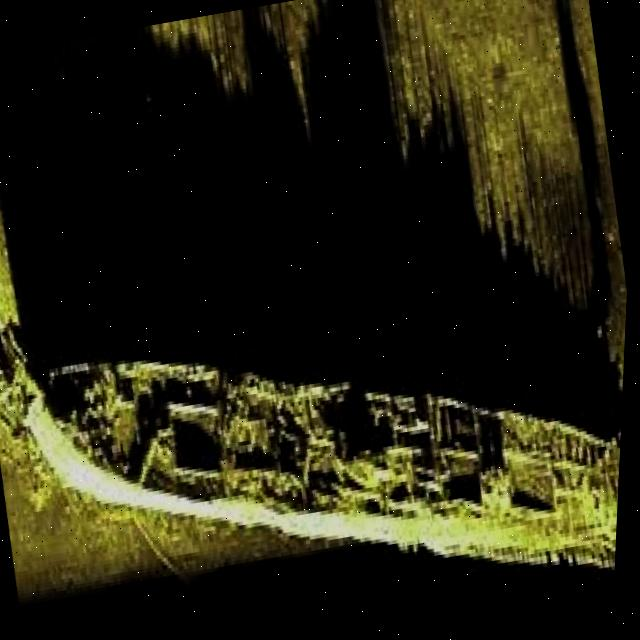shipwreck: (222, 0, 640, 620)
